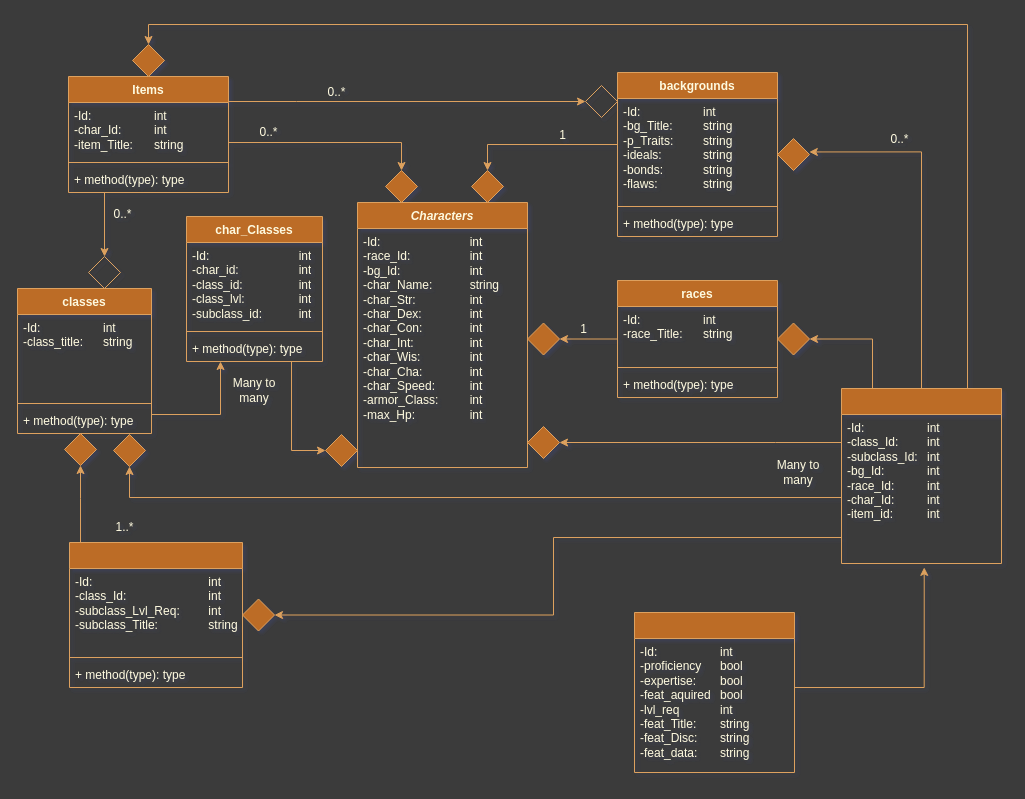
This 1025x799 diagram has some shape labels left out. The box of each missing label's shape, as (x1, y1, x2, y2) in pixels:
feature: (634, 612, 794, 772)
others_features: (840, 388, 1002, 564)
subclasses: (68, 542, 242, 688)
